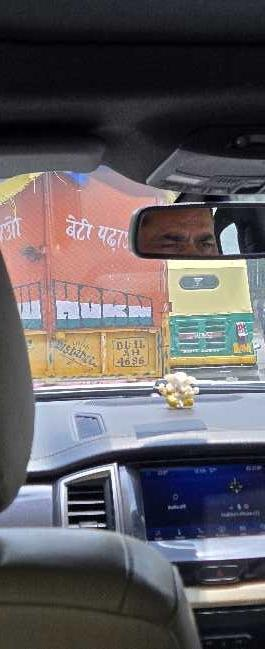License plate: (112, 338, 149, 368)
